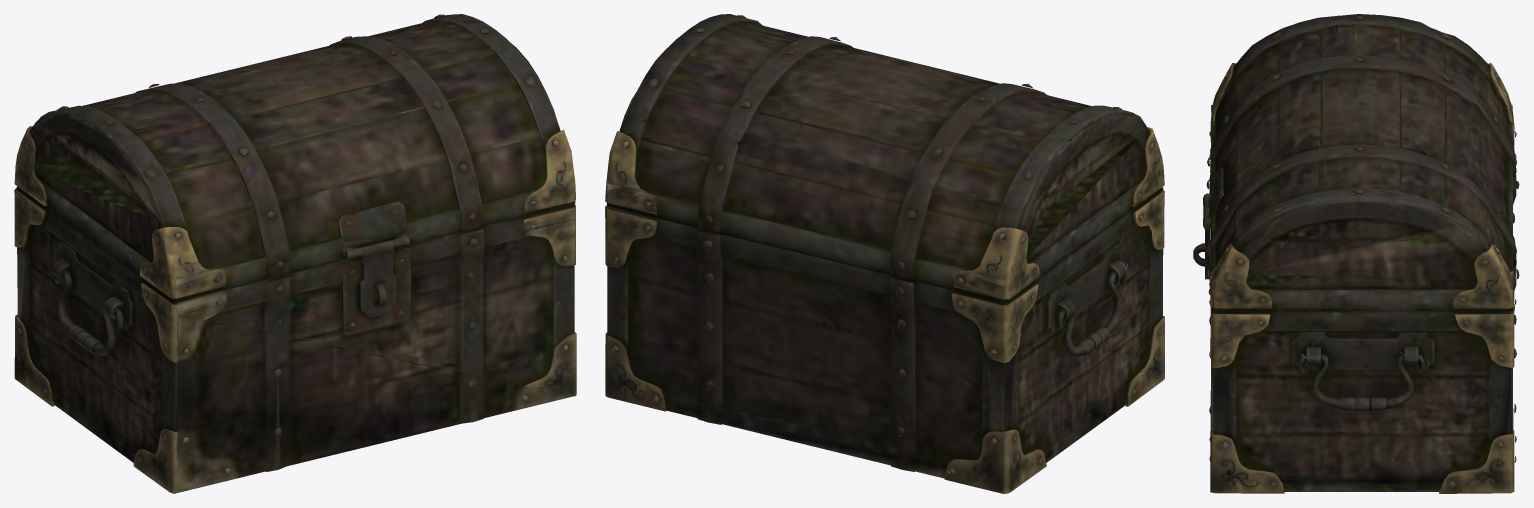
Rendered from chest.glb.
The picture shows the model from 3 angles, left to right: view 1: azimuth 30°, elevation 25°; view 2: azimuth 150°, elevation 25°; view 3: azimuth 270°, elevation 25°; orthographic projection. The views are drawn at different scales.
Visible parts, largest first — view 1: chest_p2; view 2: chest_p2; view 3: chest_p2.
Part boxes in pixels (bbox=[...]): chest_p2: bbox=[14, 14, 576, 493]; chest_p2: bbox=[605, 14, 1164, 493]; chest_p2: bbox=[1193, 14, 1519, 493].
Size of the model in its own units: 0.75 by 0.5217 by 0.5183.
2 materials, 2 textured.
